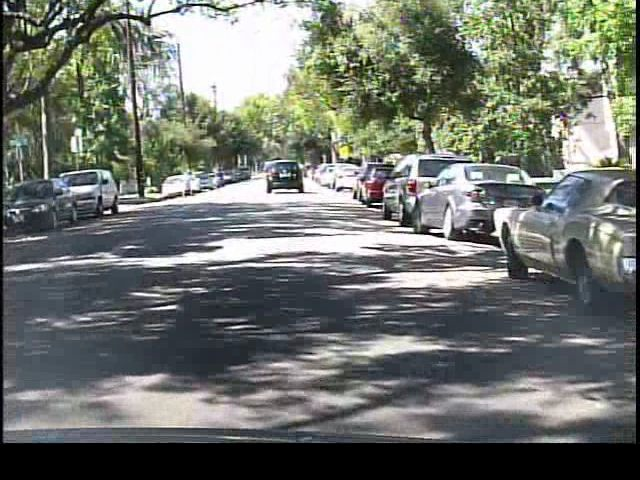person: (180, 165, 196, 201)
